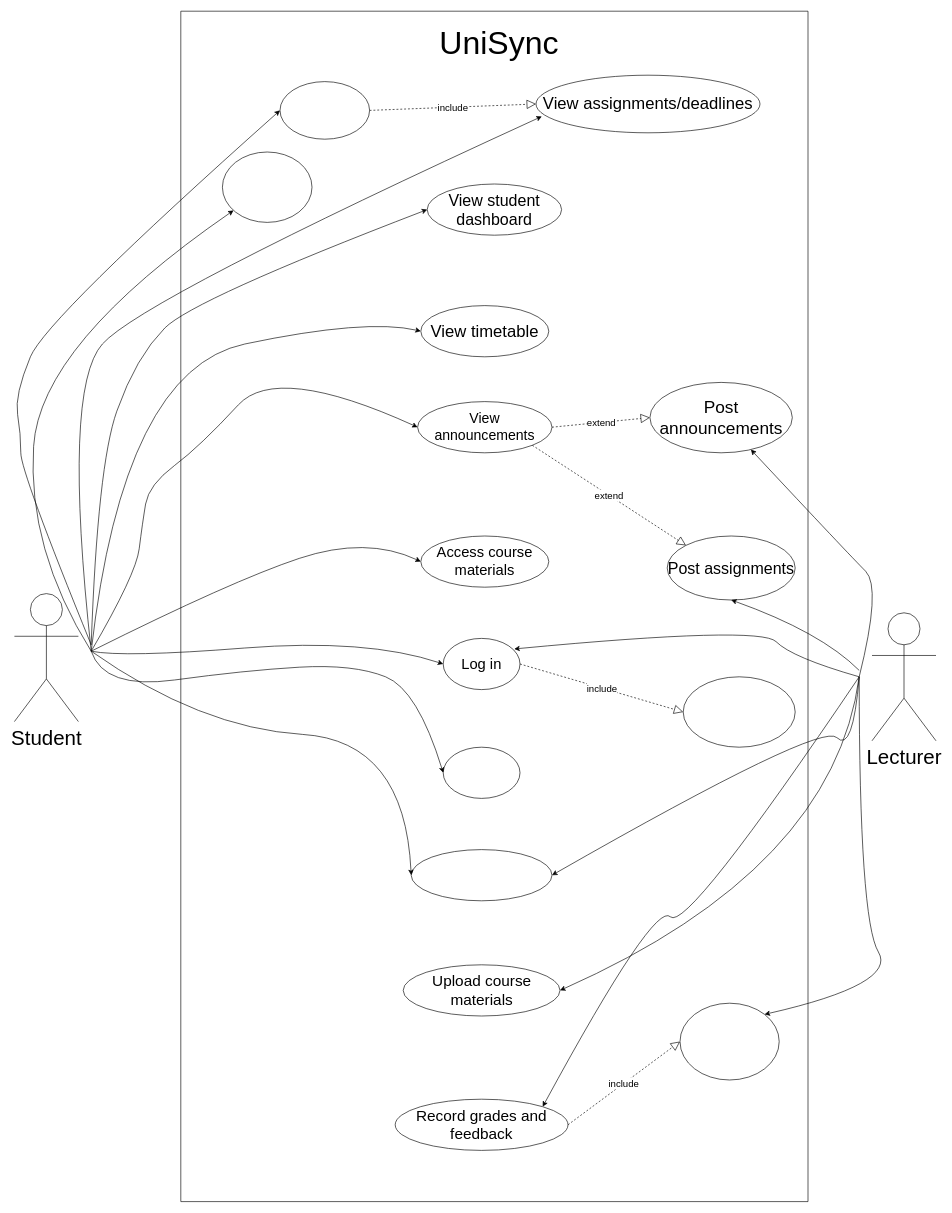
The diagram is 952 pixels wide and 1213 high, and some of its shapes have lost their labels. Here are the shapes that lost their labels. From the top down, the box of each, then its label:
(279, 81, 370, 139): Submit assignments
(222, 151, 312, 222): View notifications
(683, 676, 795, 747): Authenticate
(443, 747, 520, 798): Log out
(411, 849, 552, 901): Send/Recieve messages
(679, 1003, 779, 1080): View submissions
